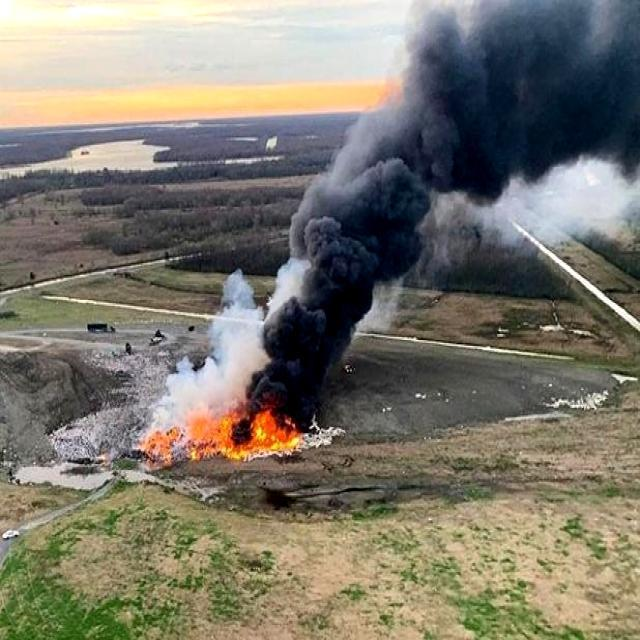Fire: (148, 406, 308, 468)
Smoke: (184, 0, 639, 407)
